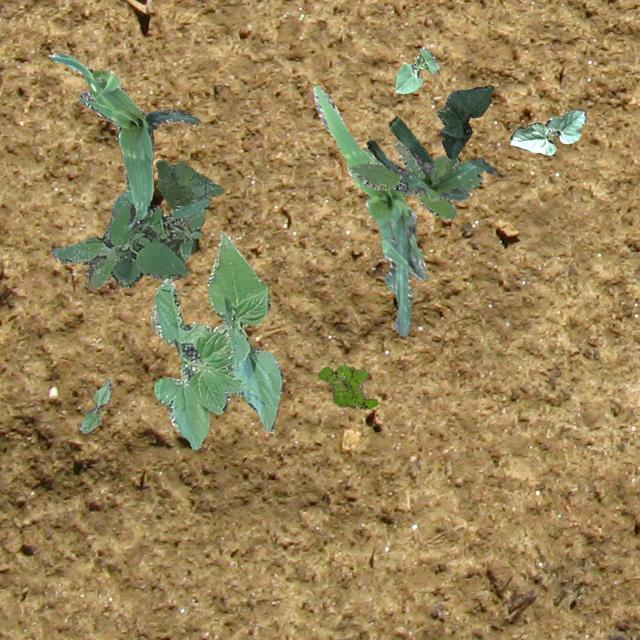crop: (312, 84, 426, 336), (150, 231, 282, 448), (48, 54, 200, 228), (366, 116, 500, 200), (436, 84, 492, 158), (508, 108, 586, 154), (394, 46, 438, 92), (78, 378, 110, 432)
weed: (50, 190, 208, 286), (348, 142, 482, 218), (154, 160, 223, 208), (318, 362, 377, 408)
